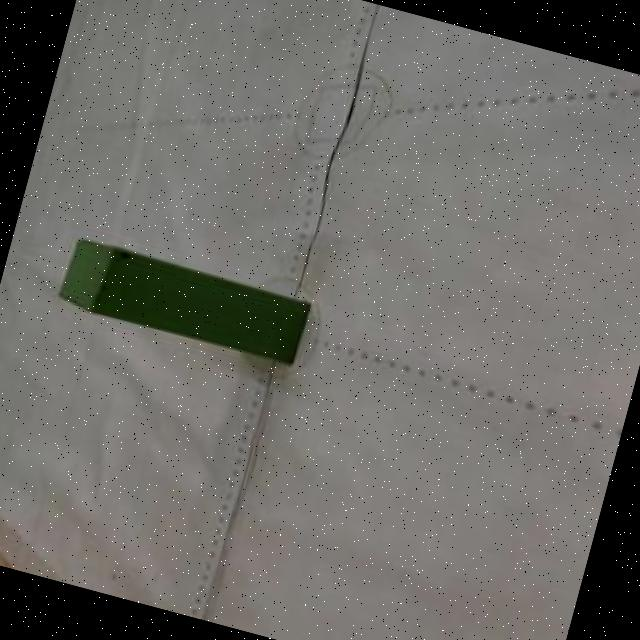greenbox: (54, 235, 308, 368)
